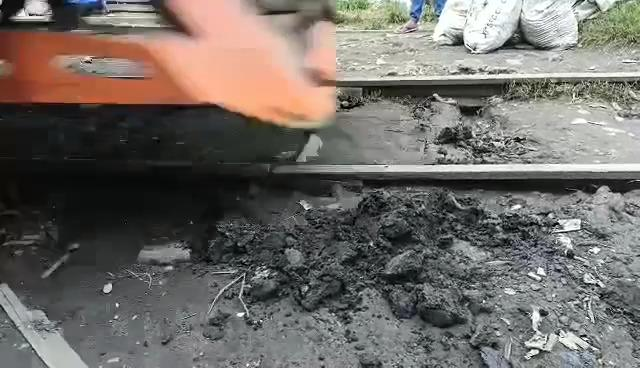railway-gap: (245, 150, 291, 188)
